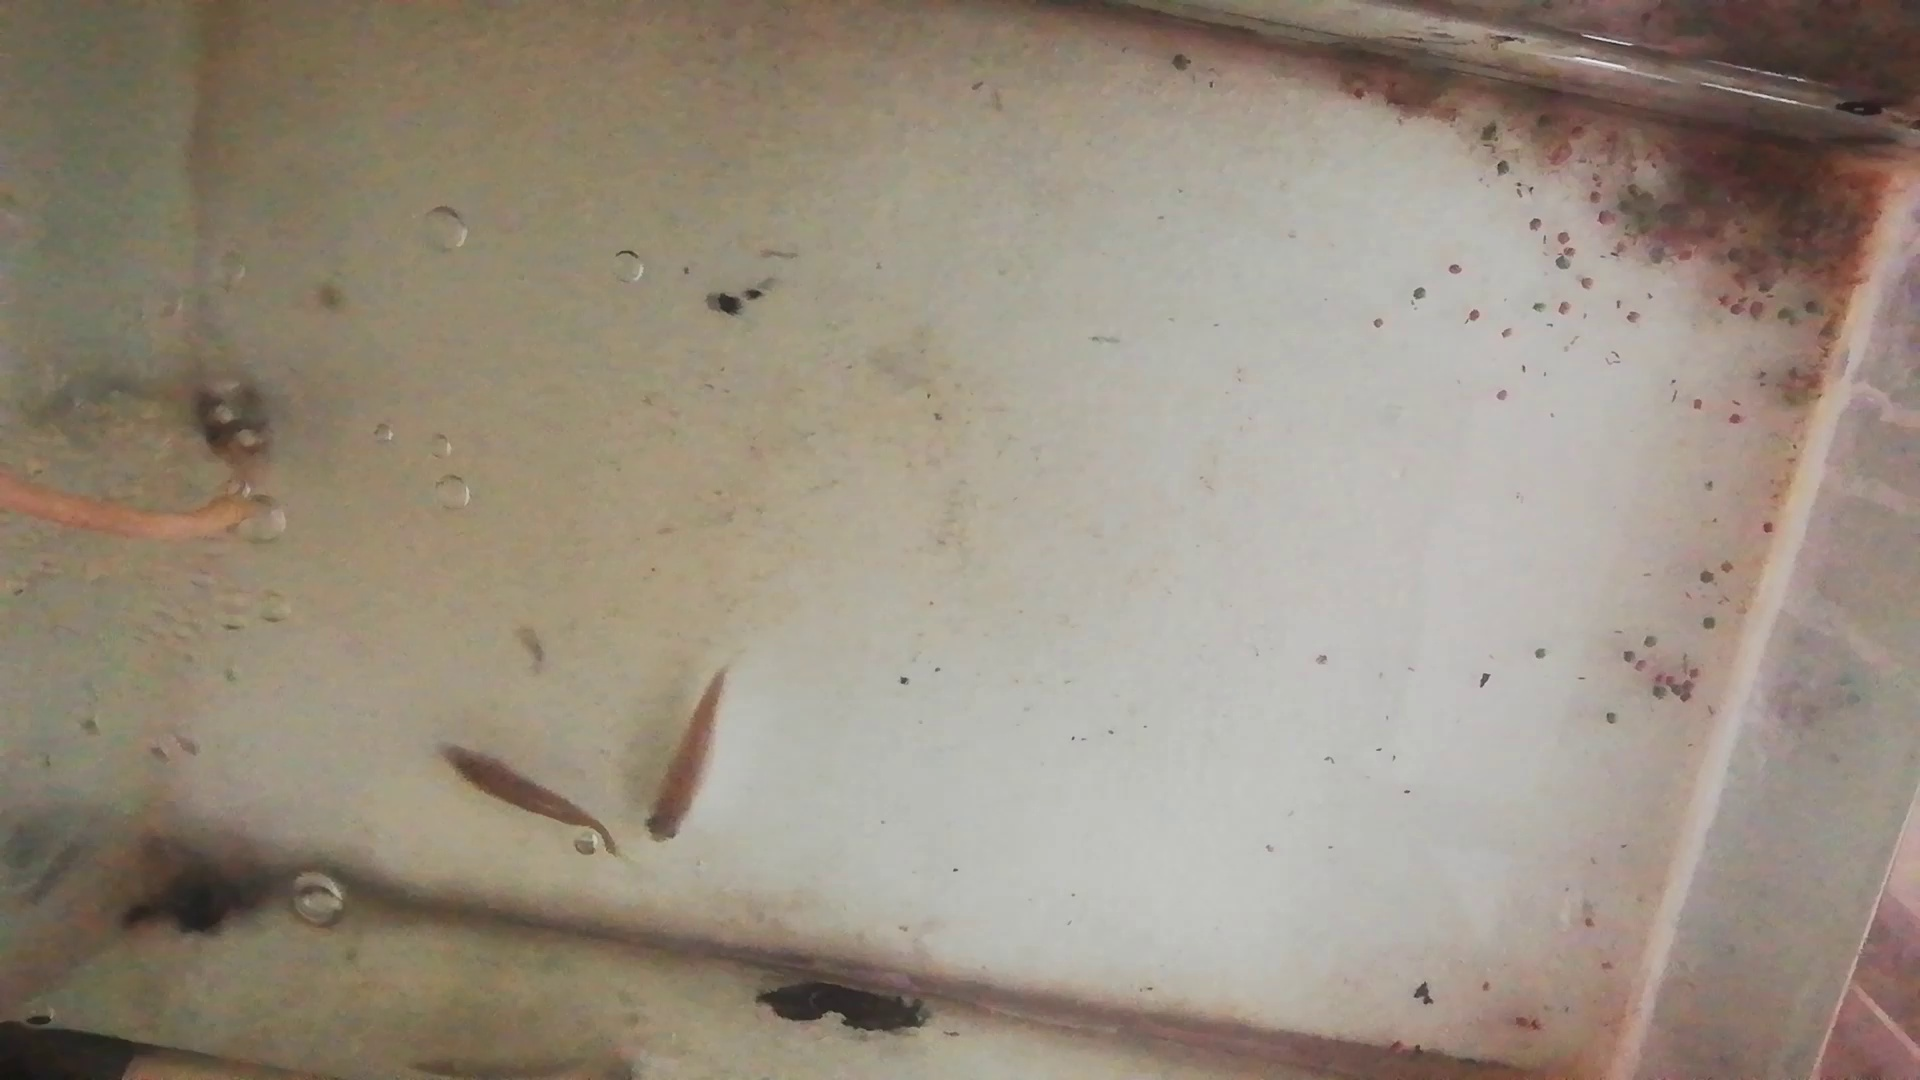fish: (430, 740, 615, 847), (642, 669, 731, 848)
